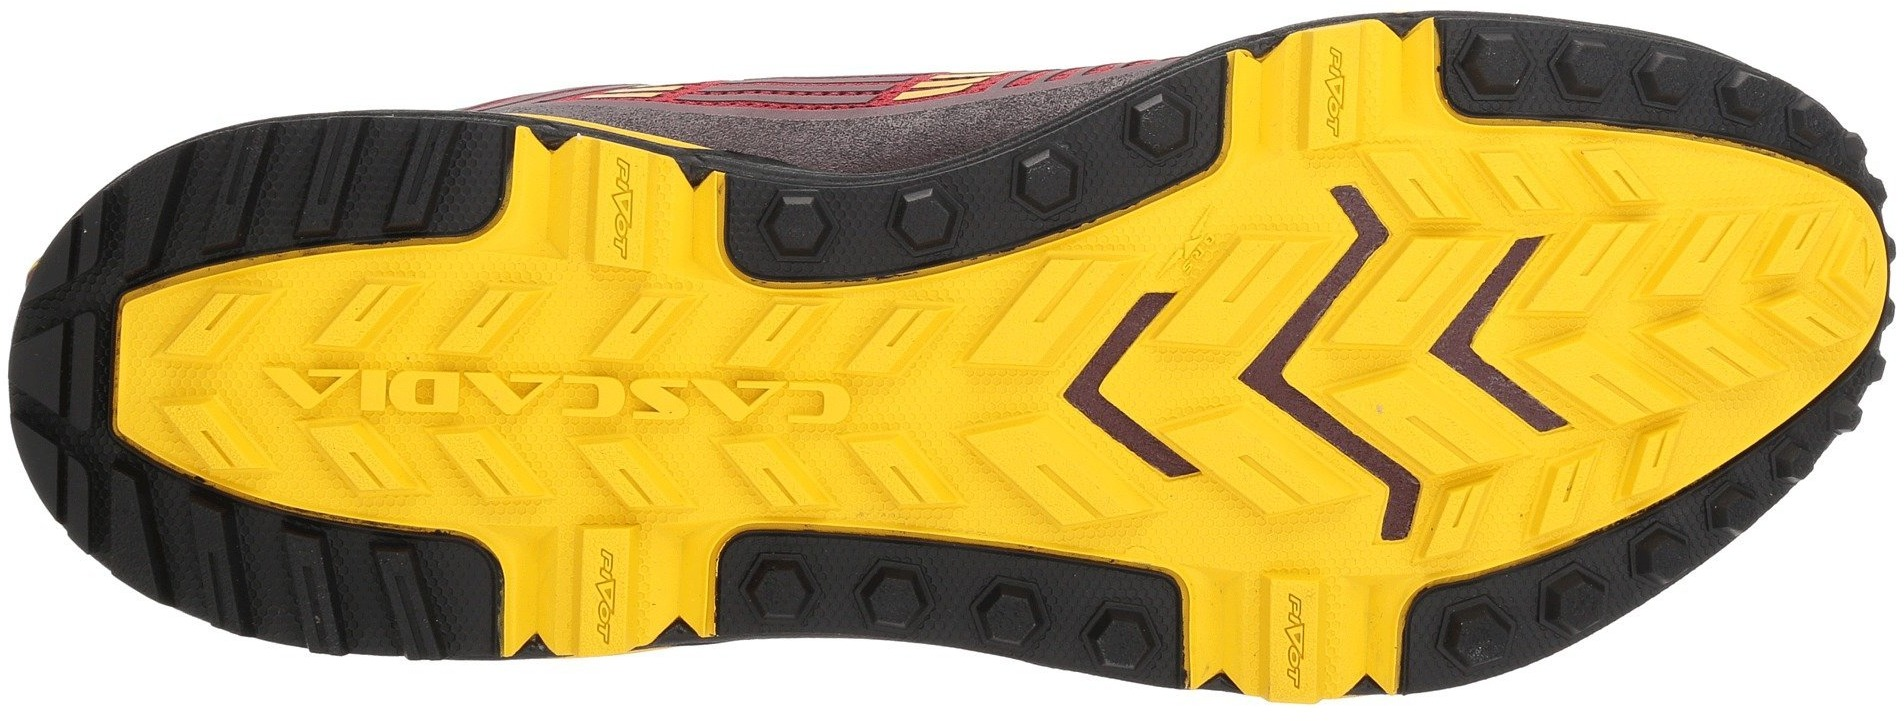chevron: (1226, 225, 1504, 499), (1011, 285, 1213, 507)
line: (1226, 225, 1504, 499), (1520, 170, 1783, 425), (1011, 285, 1213, 507), (263, 504, 467, 688), (693, 286, 869, 465), (100, 455, 261, 634), (1545, 5, 1713, 160), (1430, 567, 1586, 716), (155, 252, 295, 394), (1615, 498, 1763, 617), (285, 106, 382, 245)
polygon: (1545, 5, 1713, 160), (1430, 567, 1586, 716), (1615, 498, 1763, 617), (1072, 583, 1168, 687), (965, 560, 1059, 654), (727, 549, 822, 636), (877, 175, 968, 261), (1009, 137, 1090, 229), (766, 192, 841, 269)
quad: (1226, 225, 1504, 499), (1520, 170, 1783, 425), (263, 504, 467, 688), (693, 286, 869, 465), (100, 455, 261, 634), (1217, 549, 1376, 719), (1291, 5, 1439, 161), (155, 252, 295, 394), (2, 286, 123, 437), (285, 106, 382, 245)
text: (693, 286, 869, 465), (423, 342, 687, 452), (1217, 549, 1376, 719), (1291, 5, 1439, 161), (504, 340, 610, 448), (758, 360, 856, 445), (288, 345, 374, 432), (645, 360, 724, 453), (593, 148, 651, 263), (578, 540, 637, 615), (597, 154, 653, 212)
triangle: (693, 286, 869, 465), (423, 342, 687, 452), (1217, 549, 1376, 719), (1291, 5, 1439, 161), (504, 340, 610, 448), (288, 345, 374, 432), (593, 148, 651, 263)
